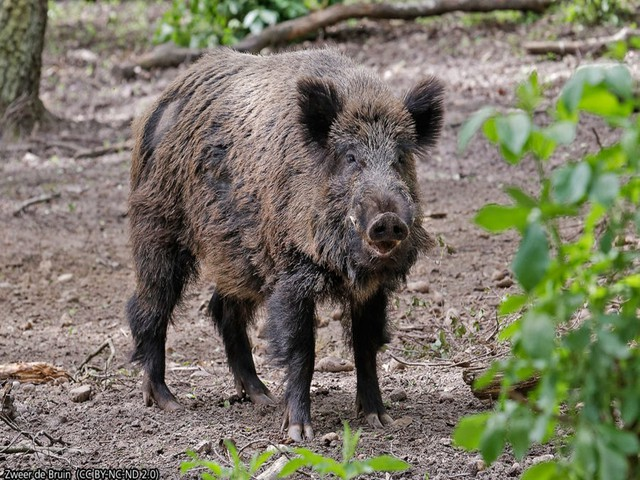Pig: (115, 44, 456, 433)
